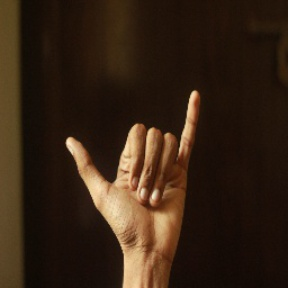J: (56, 88, 209, 248)
